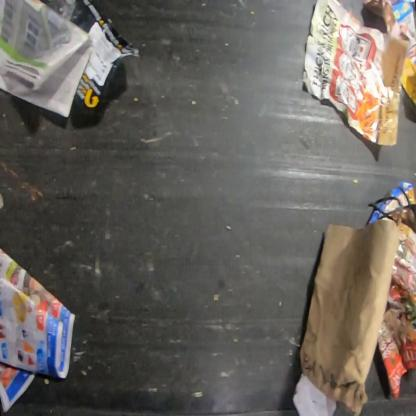cardboard: (298, 219, 401, 415)
